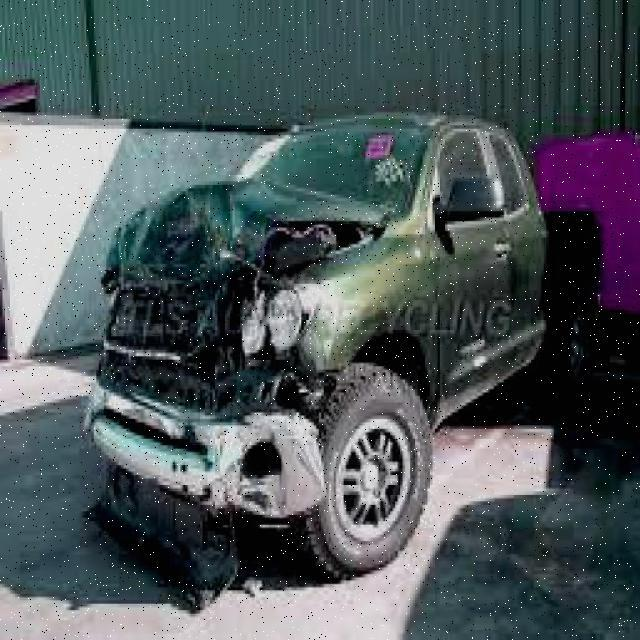car damage: (81, 185, 394, 610)
